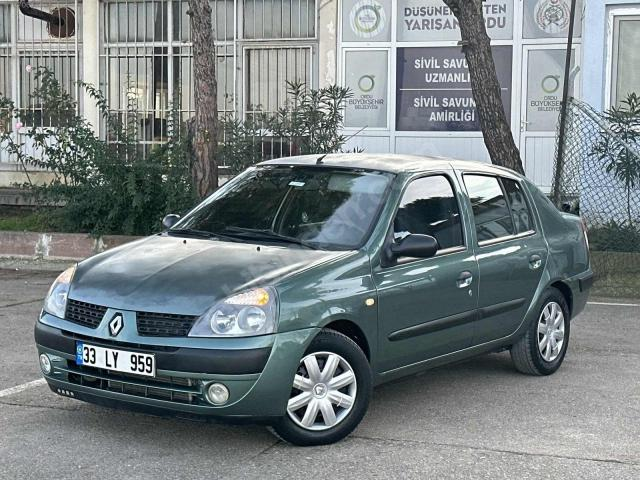plaka: (77, 343, 155, 377)
